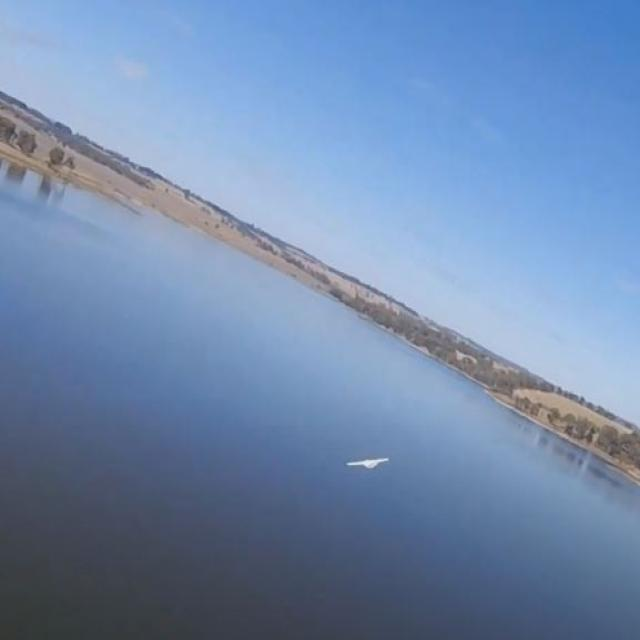iha: (346, 456, 390, 471)
